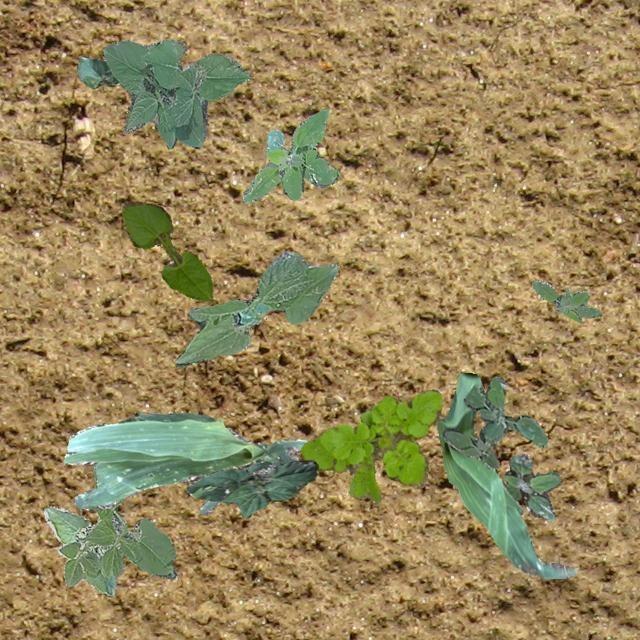crop: (436, 372, 576, 578), (62, 412, 306, 514), (174, 250, 338, 368), (42, 464, 176, 596), (102, 38, 250, 148), (120, 200, 212, 300), (186, 458, 316, 518), (75, 56, 118, 88)
weed: (298, 388, 441, 502), (439, 376, 546, 468), (242, 106, 338, 202), (504, 452, 560, 520), (530, 278, 600, 322)
